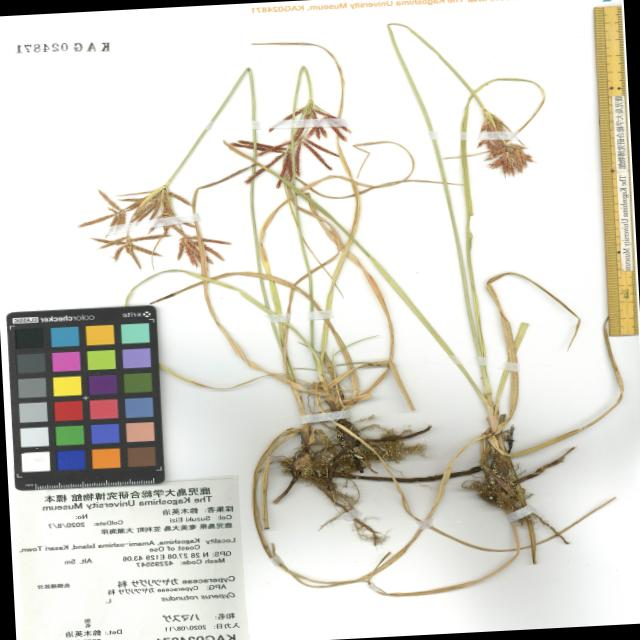cyperus: (215, 92, 358, 190), (82, 178, 224, 276), (463, 100, 541, 174)
